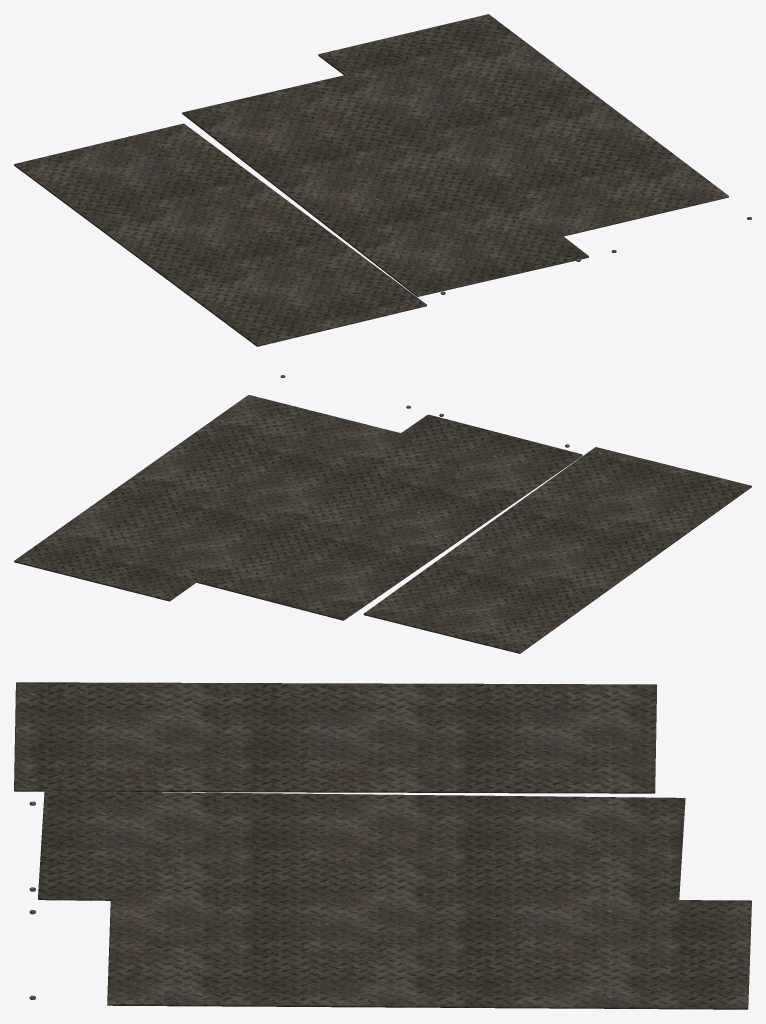
File: steel_plate.glb
The picture shows the model from 3 angles, top to bottom: view 1: azimuth 30°, elevation 25°; view 2: azimuth 150°, elevation 25°; view 3: azimuth 270°, elevation 25°; orthographic projection. The views are drawn at different scales.
Visible parts, largest first — view 1: steel_plate; view 2: steel_plate; view 3: steel_plate.
Boxes of the visible parts, x1,y1,x2,y2 form: steel_plate: (14,14,751,346); steel_plate: (14,375,751,653); steel_plate: (14,682,751,1009).
Bounding box in the file's own units: 7.21 × 0.04 × 6.91.
Materials: 1 (1 with a texture image).
